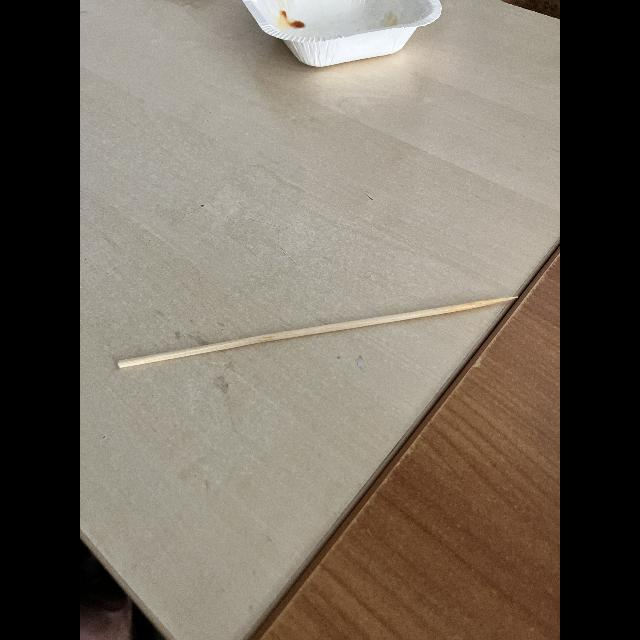cardboard_bowl: (237, 0, 456, 110)
stick: (102, 270, 534, 408)
